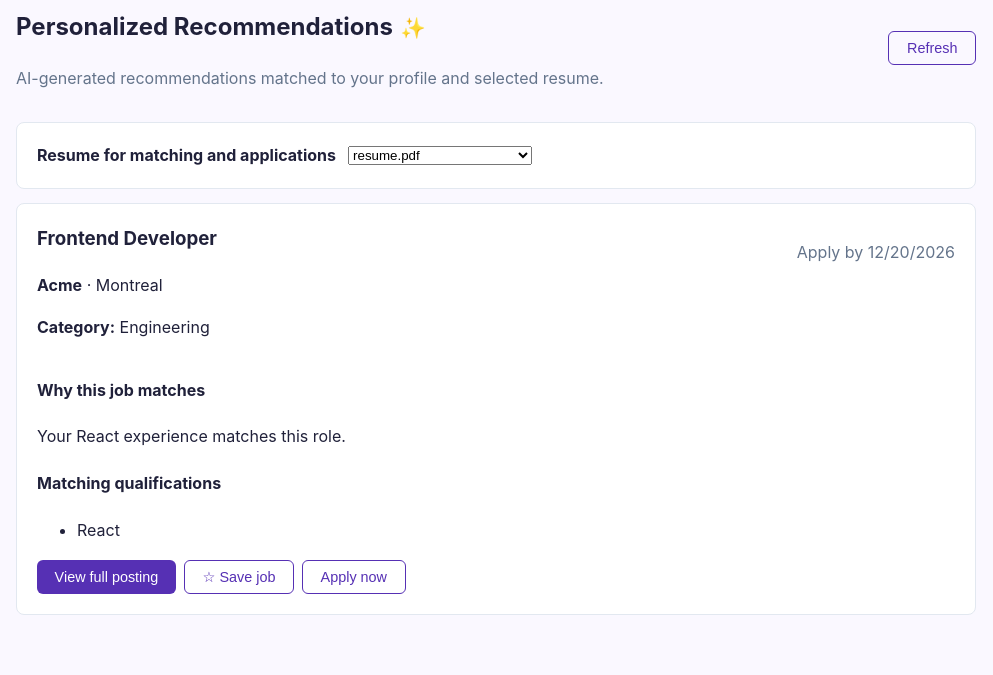
Test case: Recommendations page states › errors › shows an error when saving a recommended job fails
Check: the heading "Frontend Developer" is shown, box [37,224,217,254]
What coordinates should you click on to do the following:
click the button "☆ Save job"
I would click on:
 (239, 577)
Its box is [184,560,294,594].
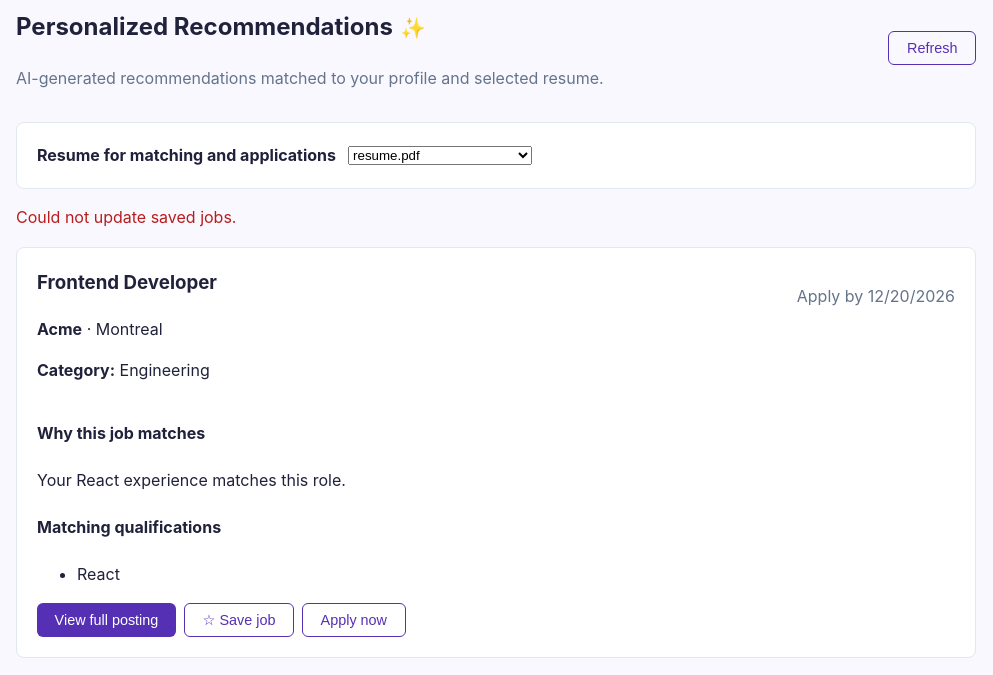
Check: the message reads "Could not update saved jobs.", box [16,207,236,227]
